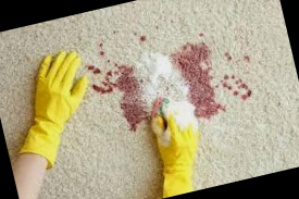wine: (80, 46, 154, 134), (173, 38, 230, 126), (218, 69, 256, 108), (219, 47, 253, 71), (128, 27, 155, 48)
